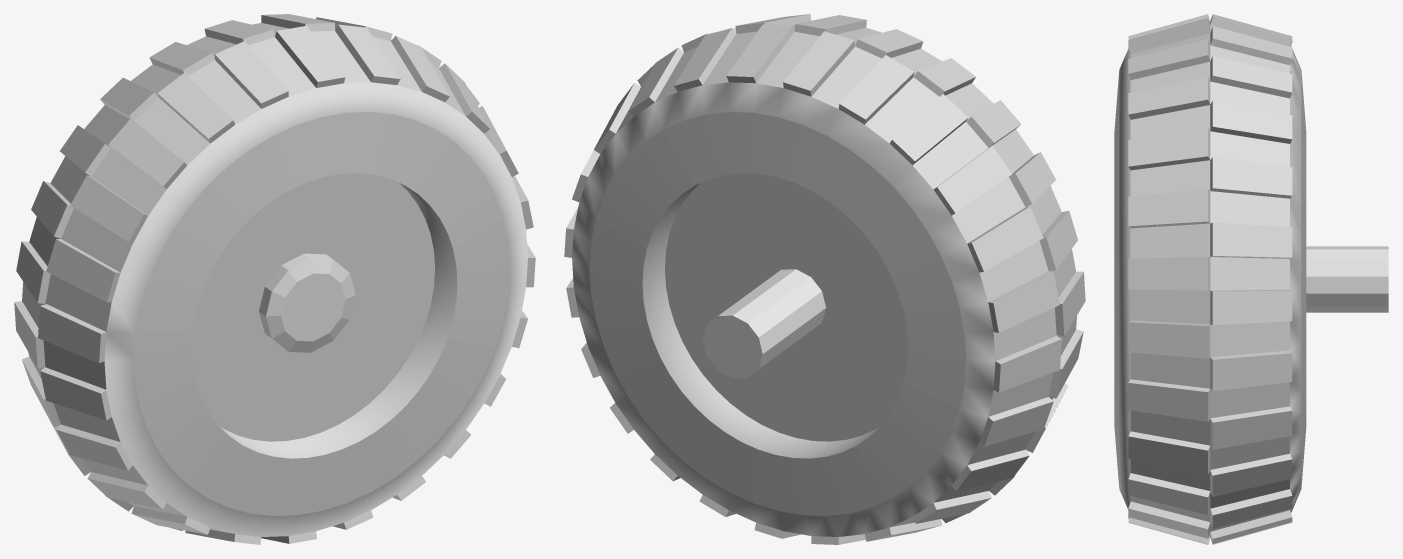
File: wheel_small.fbx
3 views of the same model, side by side, from view 1: azimuth 30°, elevation 25°; view 2: azimuth 150°, elevation 25°; view 3: azimuth 270°, elevation 25° (orthographic). The views are drawn at different scales.
Visible parts, largest first — view 1: Torus, Cylinder, Cylinder.002; view 2: Torus, Cylinder, Cylinder.001; view 3: Torus, Cylinder.001.
Boxes of the visible parts, x1,y1,x2,y2 form: Torus: [14, 14, 535, 544]; Cylinder: [191, 173, 434, 441]; Cylinder.002: [259, 253, 355, 352]; Torus: [564, 14, 1085, 544]; Cylinder: [665, 173, 908, 441]; Cylinder.001: [703, 269, 825, 378]; Torus: [1114, 14, 1306, 544]; Cylinder.001: [1306, 246, 1388, 312].
Size of the model in its own units: 0.8155 by 0.8155 by 0.4206.
Materials: 2 (1 with a texture image).
